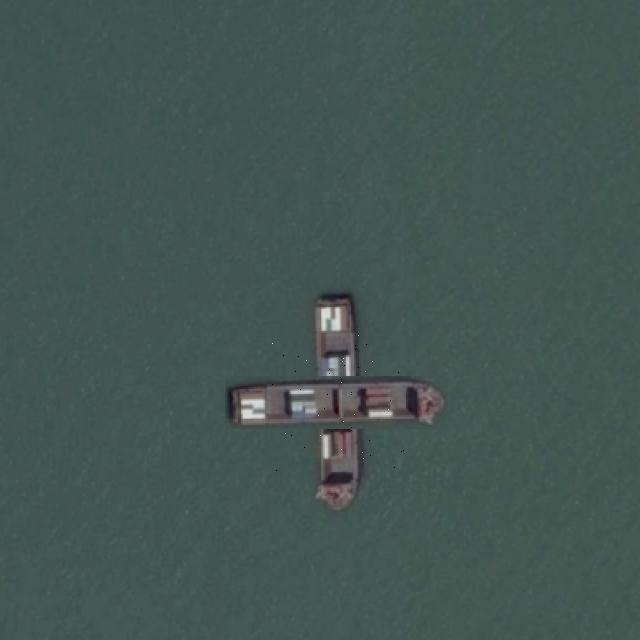boat: (268, 333, 406, 472)
